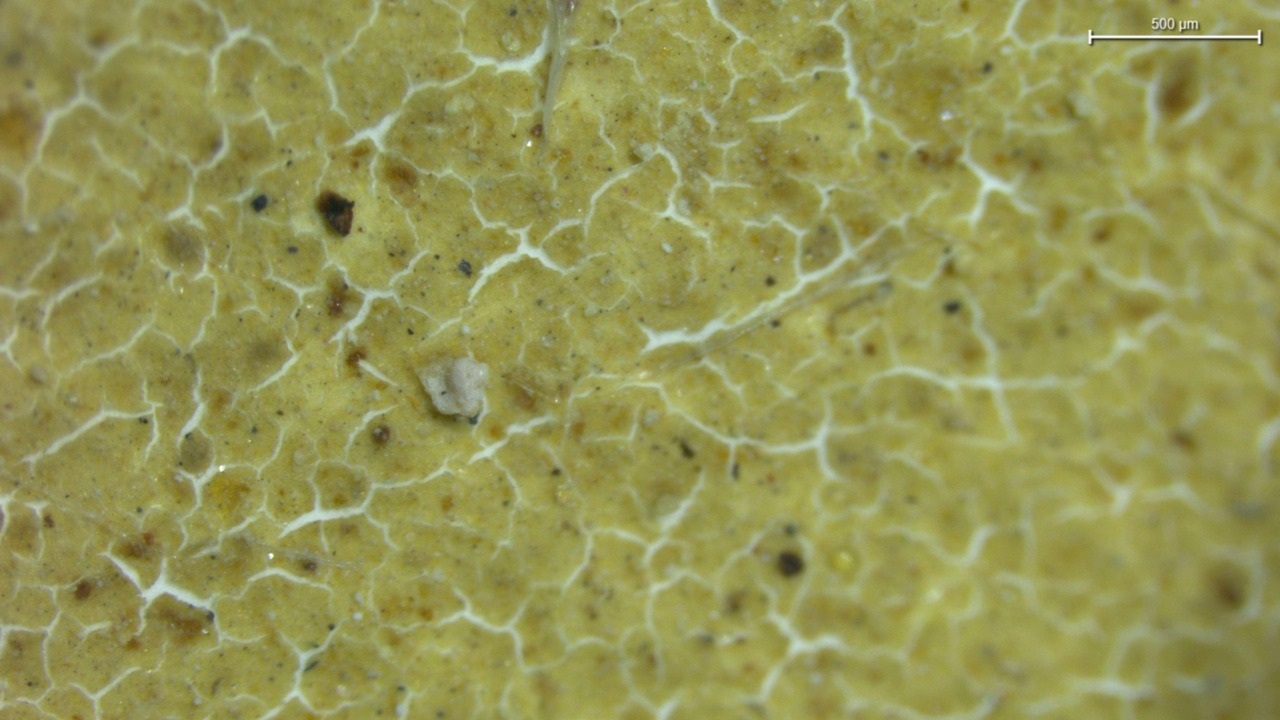microplastic_fragment: (416, 355, 488, 419)
